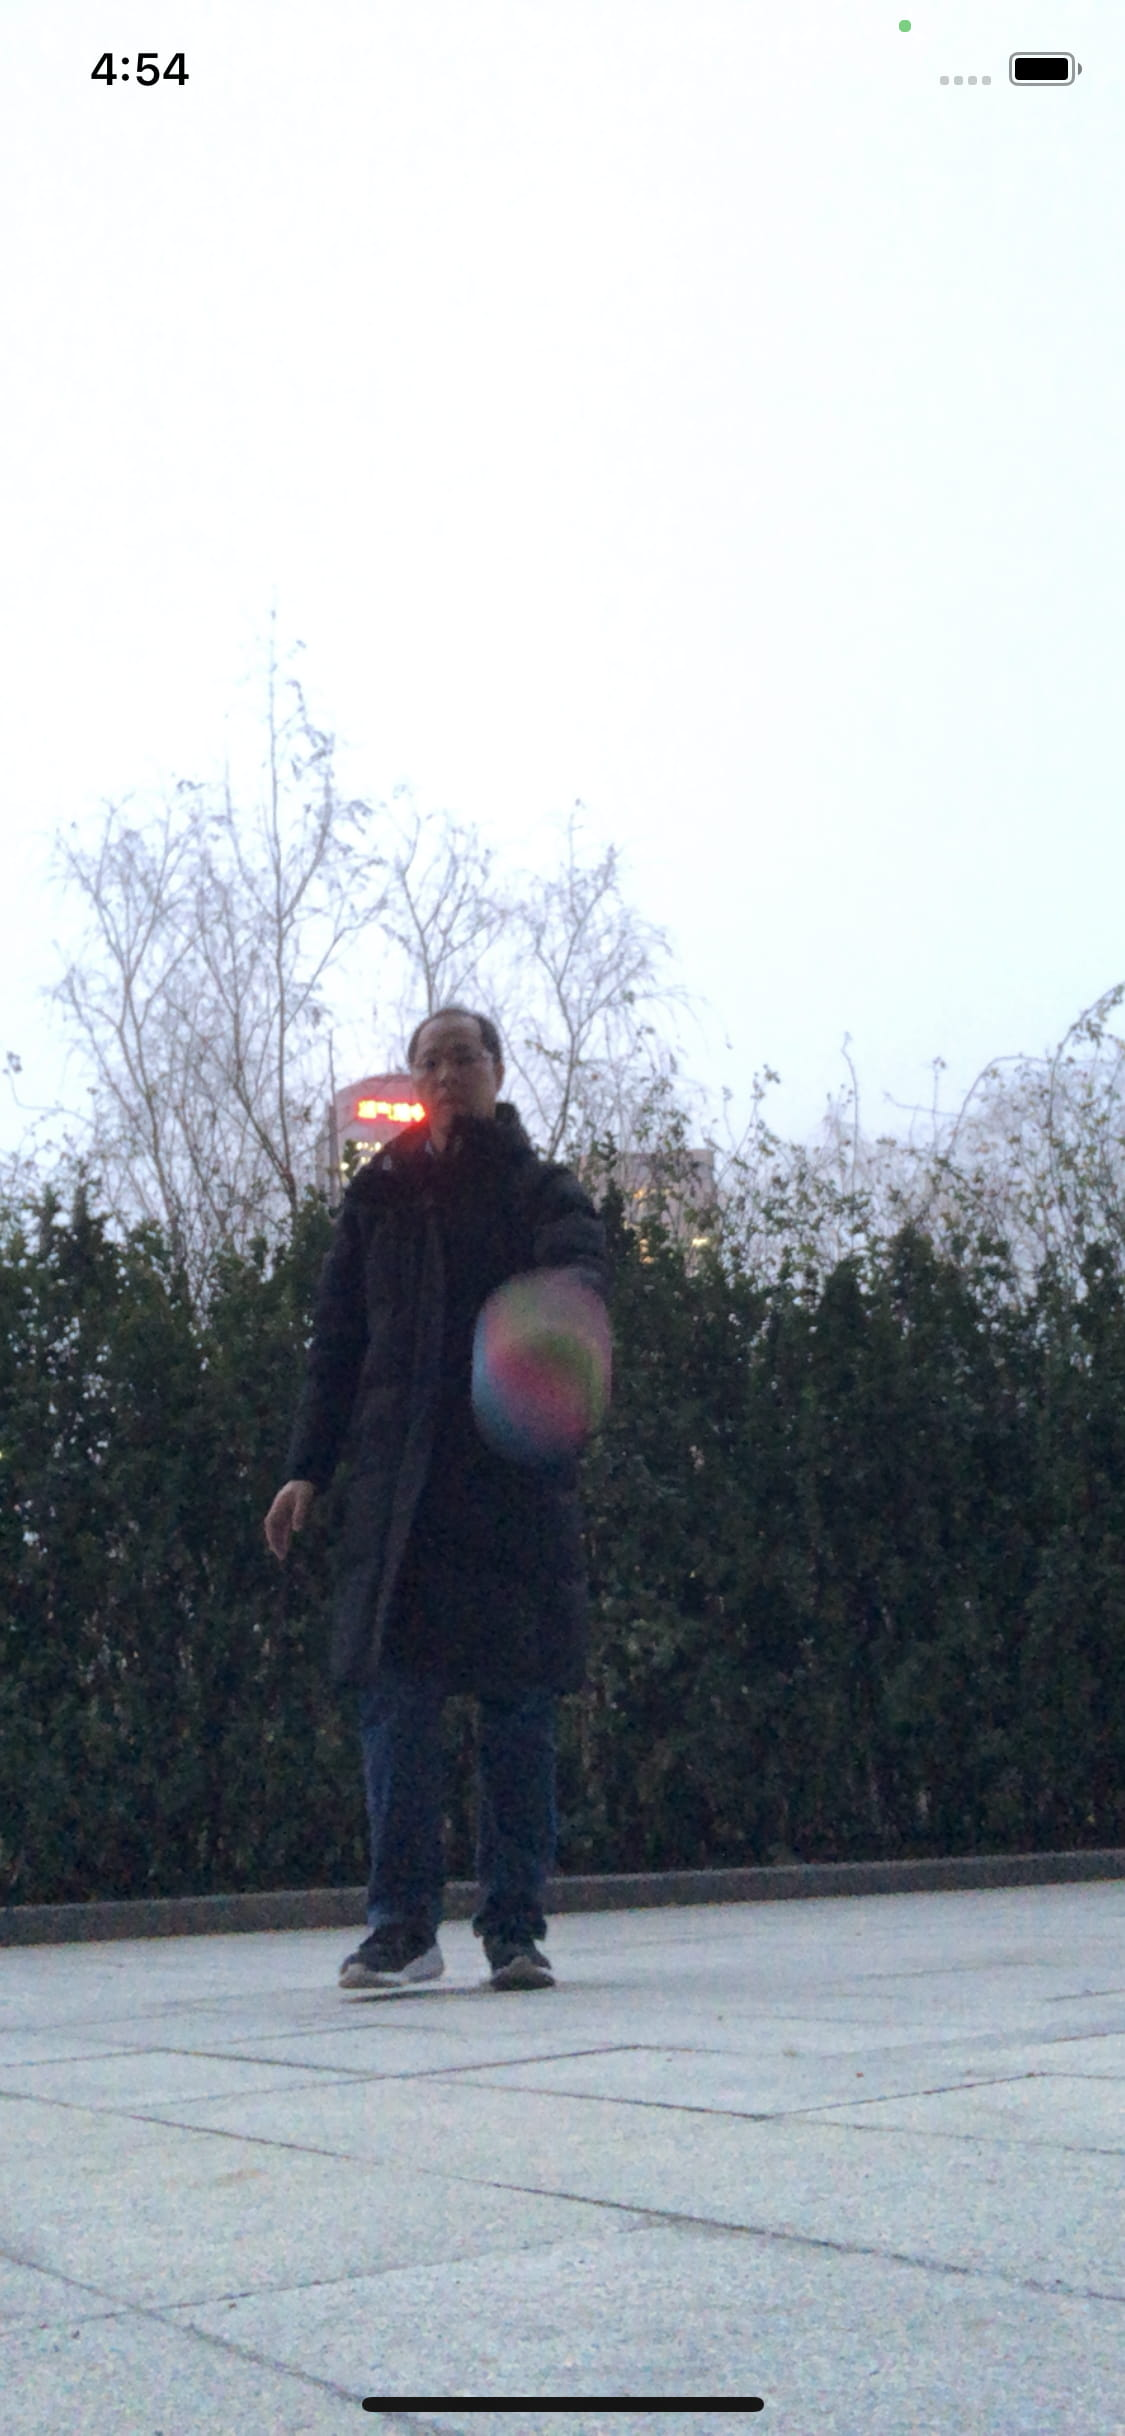ball: (471, 1261, 622, 1473)
